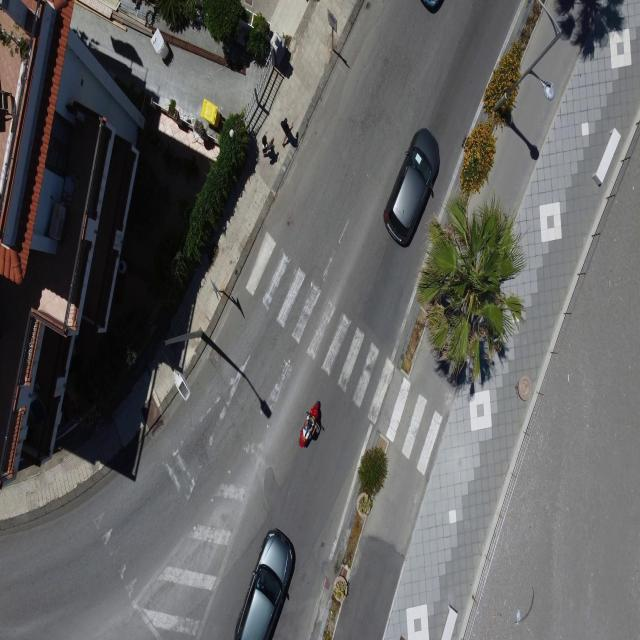Car: (231, 529, 296, 640), (383, 128, 441, 248)
Cycle: (298, 405, 322, 446)
